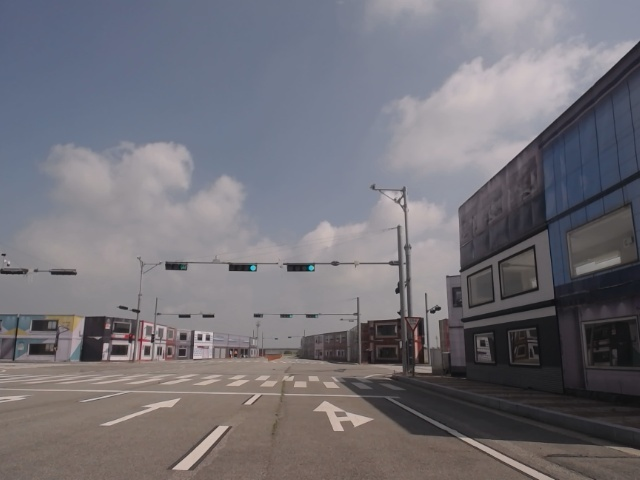straight_green_4: (287, 263, 315, 273), (230, 263, 259, 271)
